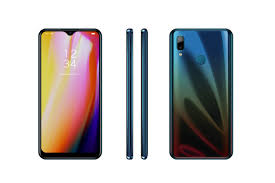htc: (35, 27, 105, 162), (167, 26, 237, 161)
